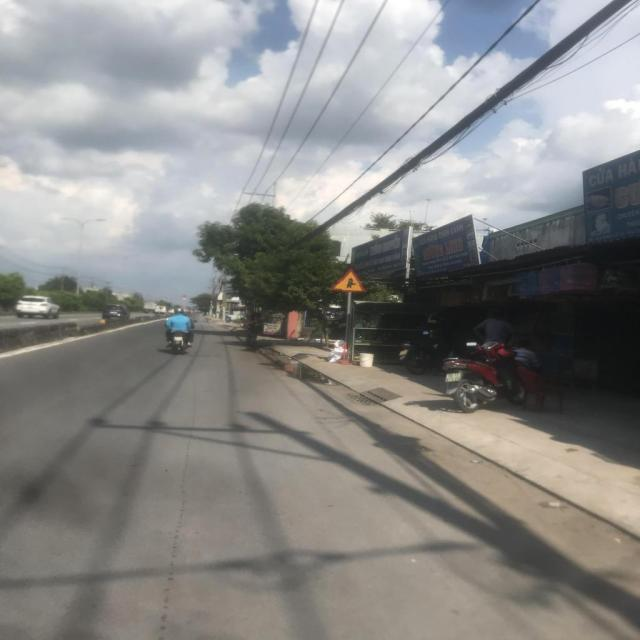giao_nhau_voi_duong_khong_uu_tien: (331, 266, 368, 292)
